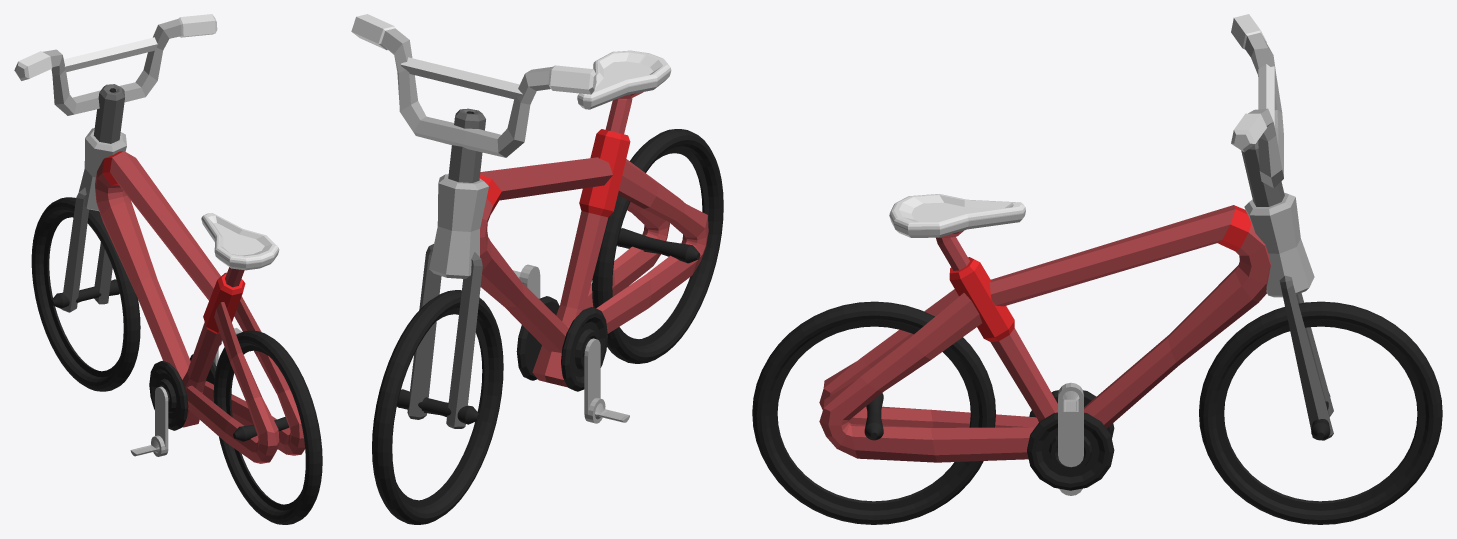
The model's file is rotatedbike1.fbx.
3 views of the same model, side by side, from view 1: azimuth 30°, elevation 25°; view 2: azimuth 150°, elevation 25°; view 3: azimuth 270°, elevation 25° (orthographic). The views are drawn at different scales.
Visible parts, largest first — view 1: Frame.028, Handlebar.028, FrontWheel, BackWheel.029, Circle.161, Cylinder.169, Circle.162; view 2: Frame.028, Handlebar.028, FrontWheel, BackWheel.029, Cylinder.169, Circle.161, Circle.162, Circle.160, Circle.163; view 3: Frame.028, FrontWheel, BackWheel.029, Handlebar.028, Circle.160, Cylinder.169, Circle.163.
Boxes of the visible parts, x1,y1,x2,y2 form: Frame.028: (95,151,305,463); Handlebar.028: (14,14,217,312); FrontWheel: (31,197,140,391); BackWheel.029: (213,330,322,524); Circle.161: (149,360,188,430); Cylinder.169: (79,128,126,210); Circle.162: (130,386,168,456); Frame.028: (480,50,708,387); Handlebar.028: (351,14,596,428); FrontWheel: (372,290,503,524); BackWheel.029: (592,129,723,363); Cylinder.169: (429,174,488,278); Circle.161: (561,307,607,391); Circle.162: (584,338,629,423); Circle.160: (516,296,559,380); Circle.163: (513,264,540,298); Frame.028: (819,194,1270,462); FrontWheel: (1199,301,1442,524); BackWheel.029: (752,301,995,524); Handlebar.028: (1231,14,1333,440); Circle.160: (1027,412,1114,490); Cylinder.169: (1244,192,1314,297); Circle.163: (1058,382,1083,467).
Bounding box in the file's own units: 274 × 485 × 672.
